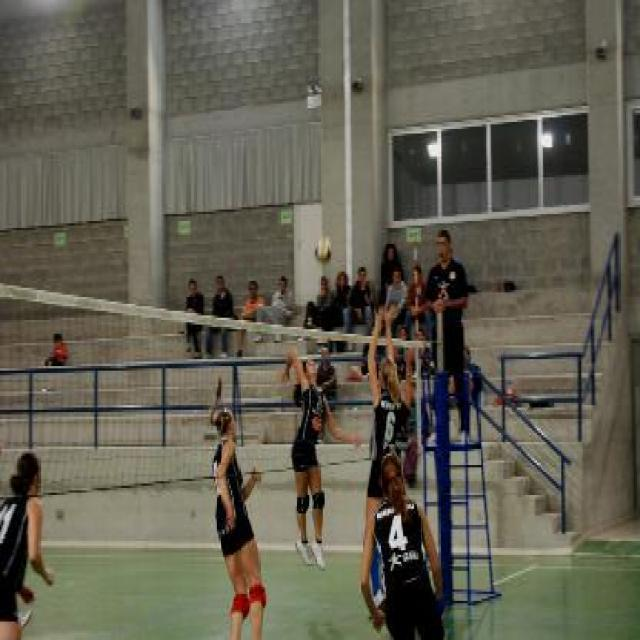volleyball: (314, 240, 332, 262)
